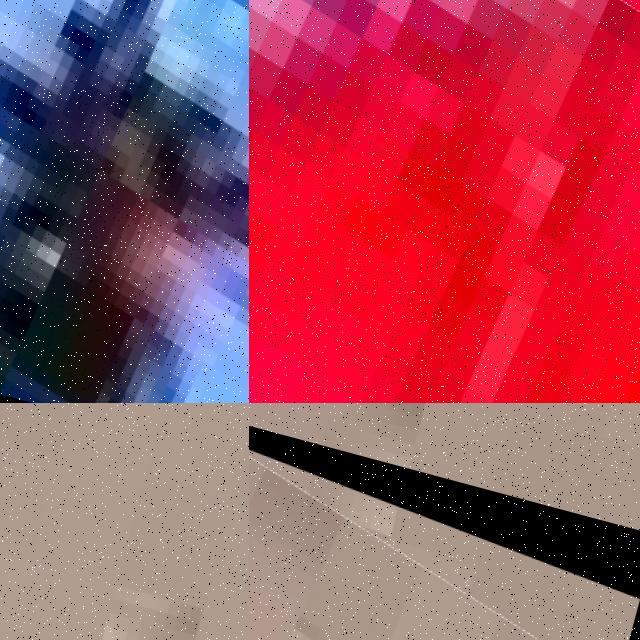drone: (249, 0, 640, 403), (0, 0, 249, 403), (249, 403, 640, 640)
